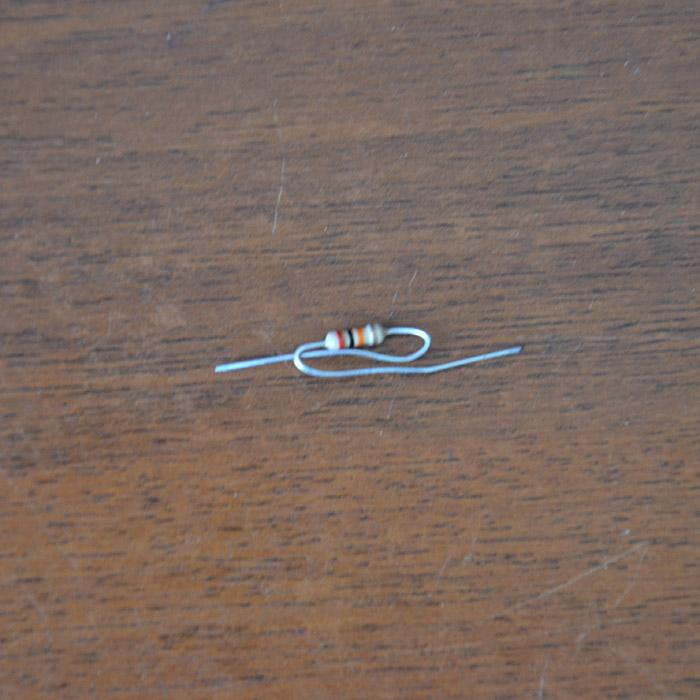resistor: (325, 323, 385, 350)
